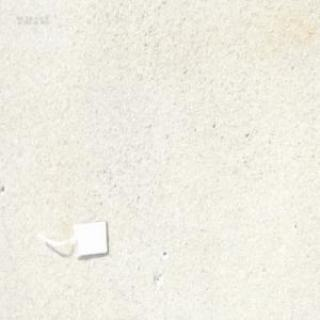LuggageTagtrack_idkeyframe: (35, 215, 109, 260)
